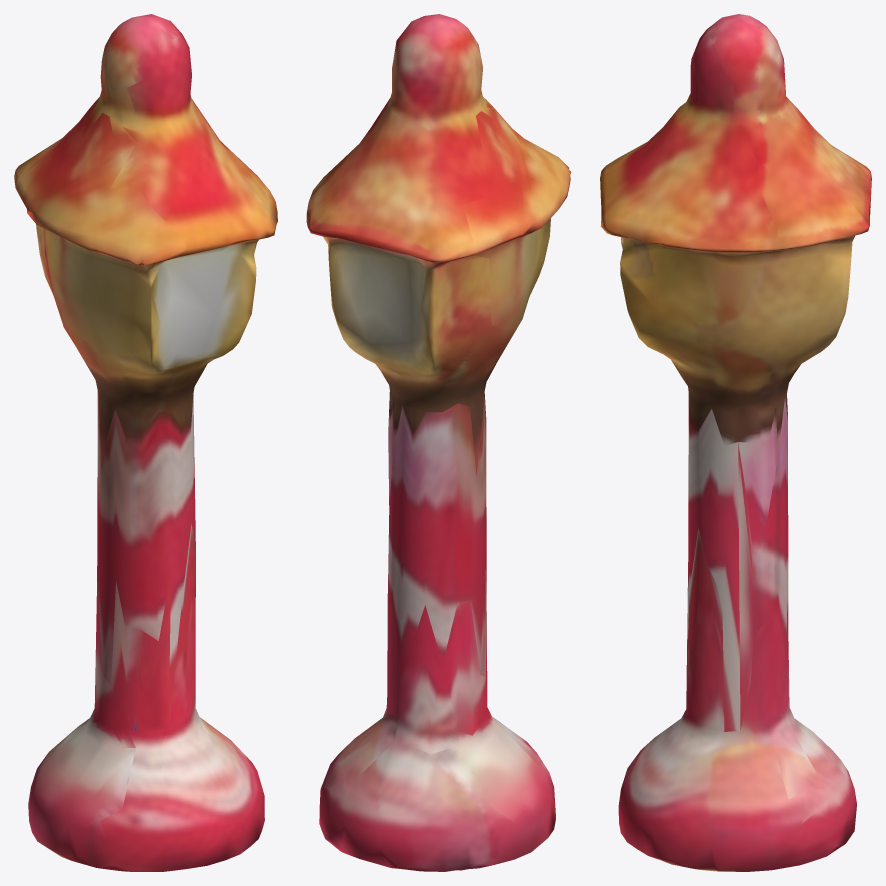
File: CF_Lamp.fbx
The picture shows the model from 3 angles, left to right: view 1: azimuth 30°, elevation 25°; view 2: azimuth 150°, elevation 25°; view 3: azimuth 270°, elevation 25°; orthographic projection.
Parts seen in each view (by area): view 1: CF_Lamp; view 2: CF_Lamp; view 3: CF_Lamp.
Boxes of the visible parts, x1,y1,x2,y2 form: CF_Lamp: (14,14,277,871); CF_Lamp: (306,14,571,871); CF_Lamp: (600,14,871,871).
Size of the model in its own units: 1.38 by 5 by 1.52.
